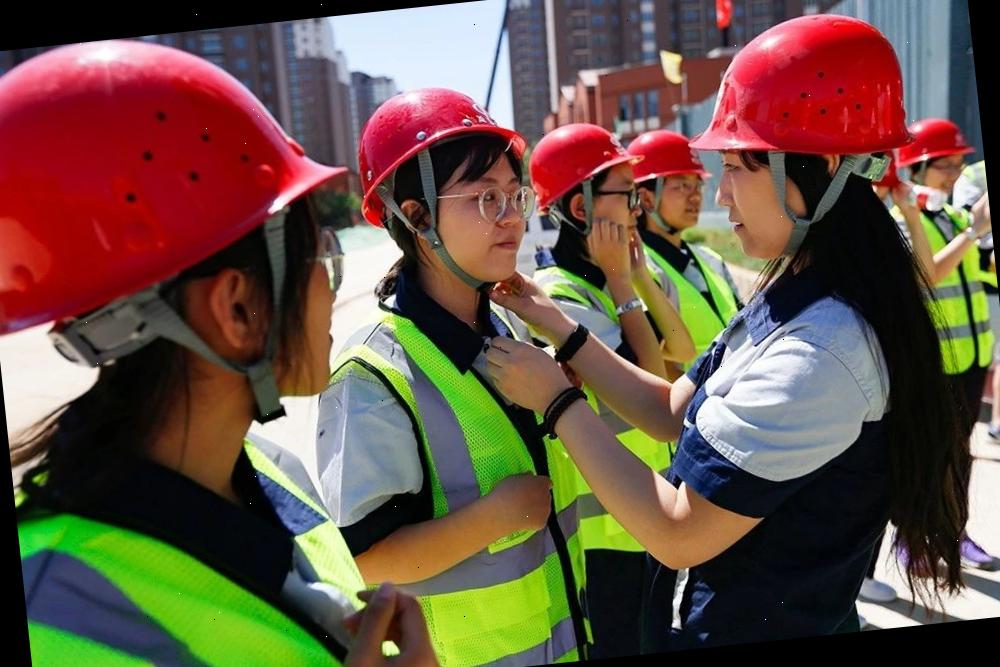helmet: (0, 19, 329, 344), (676, 1, 940, 185), (342, 70, 528, 214), (514, 112, 634, 208), (620, 121, 706, 189), (883, 111, 977, 171)
no_wear: (739, 266, 942, 639)
wear: (325, 315, 570, 667), (12, 441, 361, 667), (549, 272, 690, 560), (915, 204, 990, 375), (659, 245, 745, 357)
